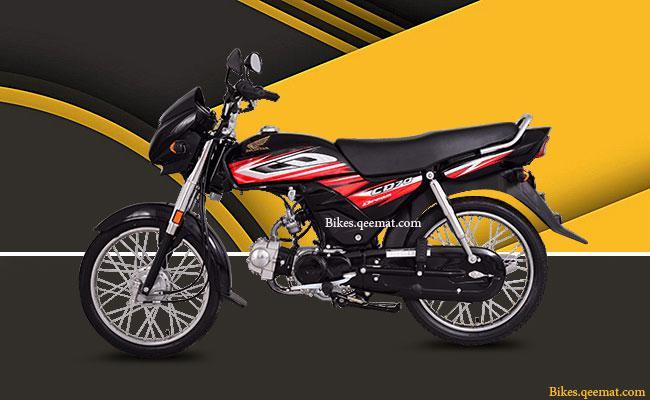bike: (78, 46, 590, 360)
